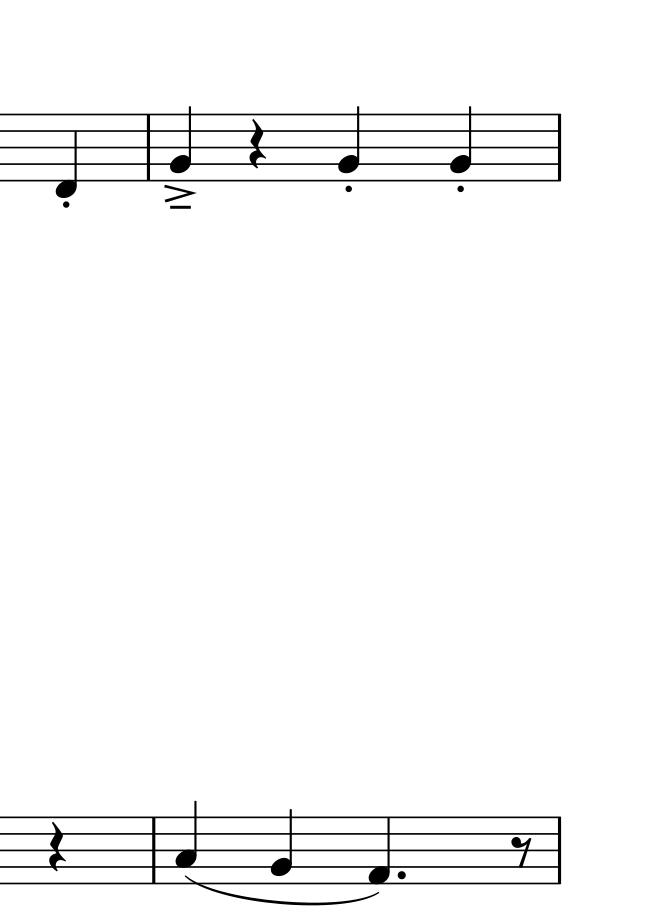4_-1: (54, 110, 79, 201)
4_1: (366, 816, 392, 887)
4_2: (449, 104, 474, 182), (270, 807, 295, 885), (169, 105, 194, 182), (337, 105, 362, 181)
4_3: (174, 802, 199, 884)
Accent_above: (161, 181, 197, 204)
Rests4: (246, 118, 268, 171), (46, 821, 68, 874)
Rests8: (510, 834, 534, 869)
Single_barline: (549, 114, 567, 182), (140, 113, 157, 181), (551, 816, 567, 884), (146, 817, 162, 883)
Slur: (182, 876, 380, 905)
dot: (394, 867, 409, 885)
